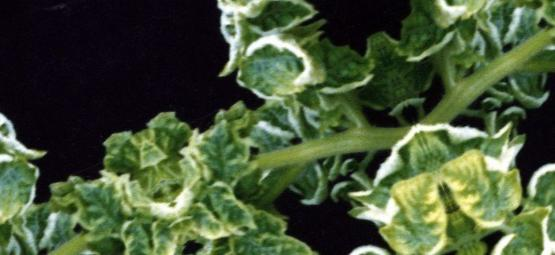Tomato leaf yellow virus: (221, 12, 346, 121), (360, 153, 468, 255), (217, 200, 339, 255), (206, 0, 354, 35), (323, 226, 446, 255), (385, 233, 504, 255), (198, 241, 300, 255)
